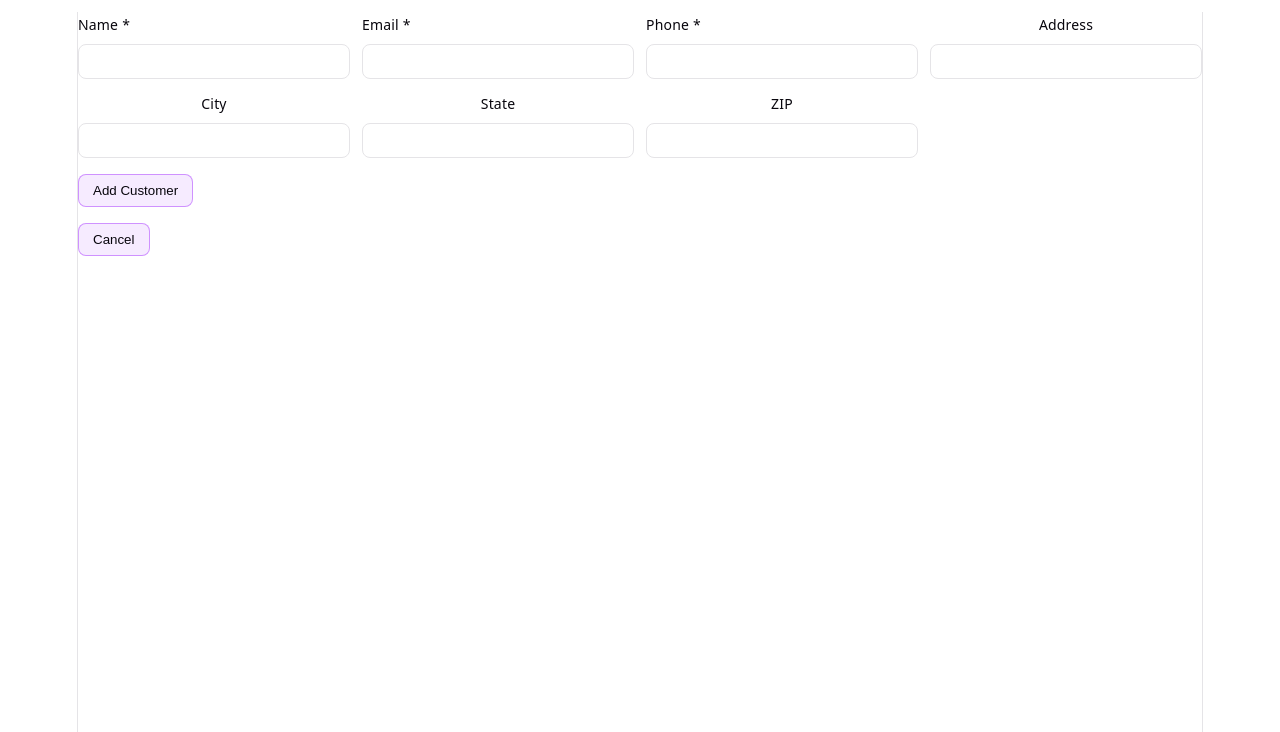
Test case: CustomerForm › Validation errors
Note: Trigger submit without entering values.
What coordinates should you click on to do the following:
click the button "Add Customer"
I would click on:
 (136, 191)
Its box is [78, 174, 193, 207].
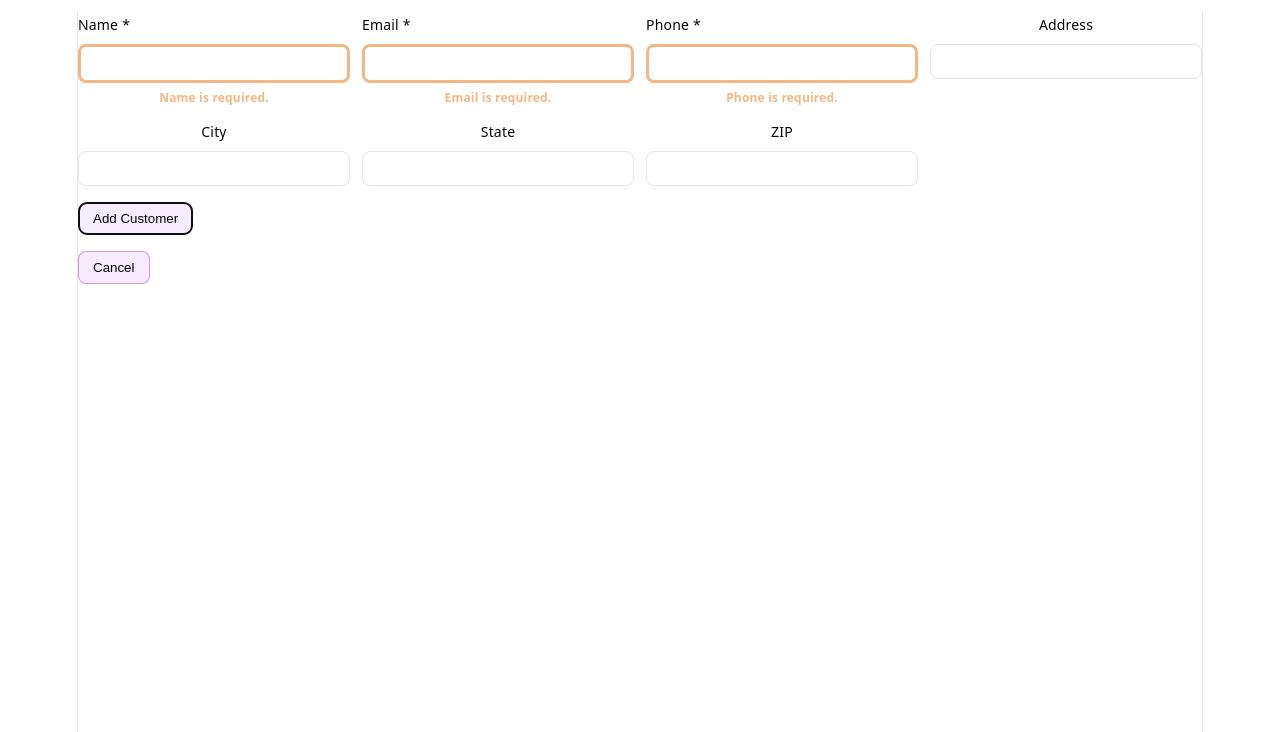
Now the text "Name is required." is shown, box [159, 89, 269, 106]
Now the text "Email is required." is shown, box [444, 89, 551, 106]
Now the text "Phone is required." is shown, box [726, 89, 838, 106]
